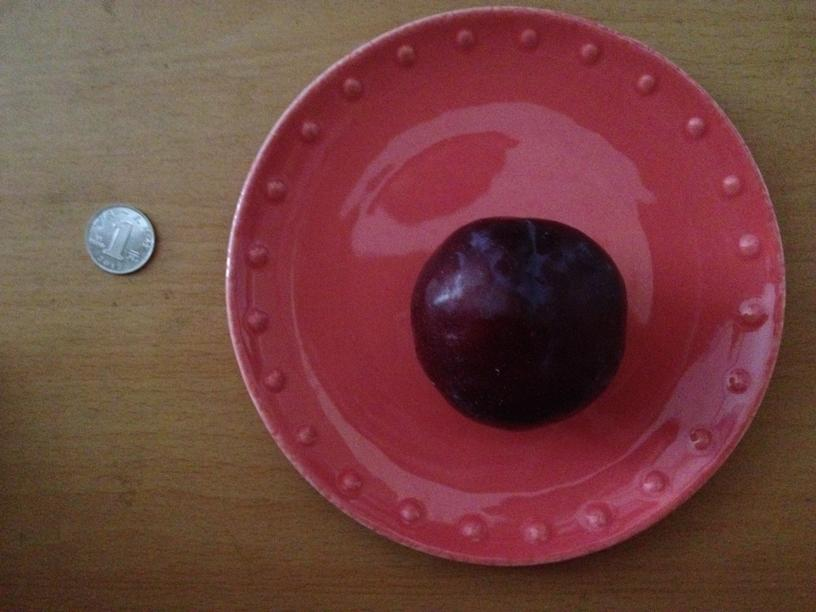coin: (83, 199, 157, 276)
plum: (410, 220, 629, 427)
